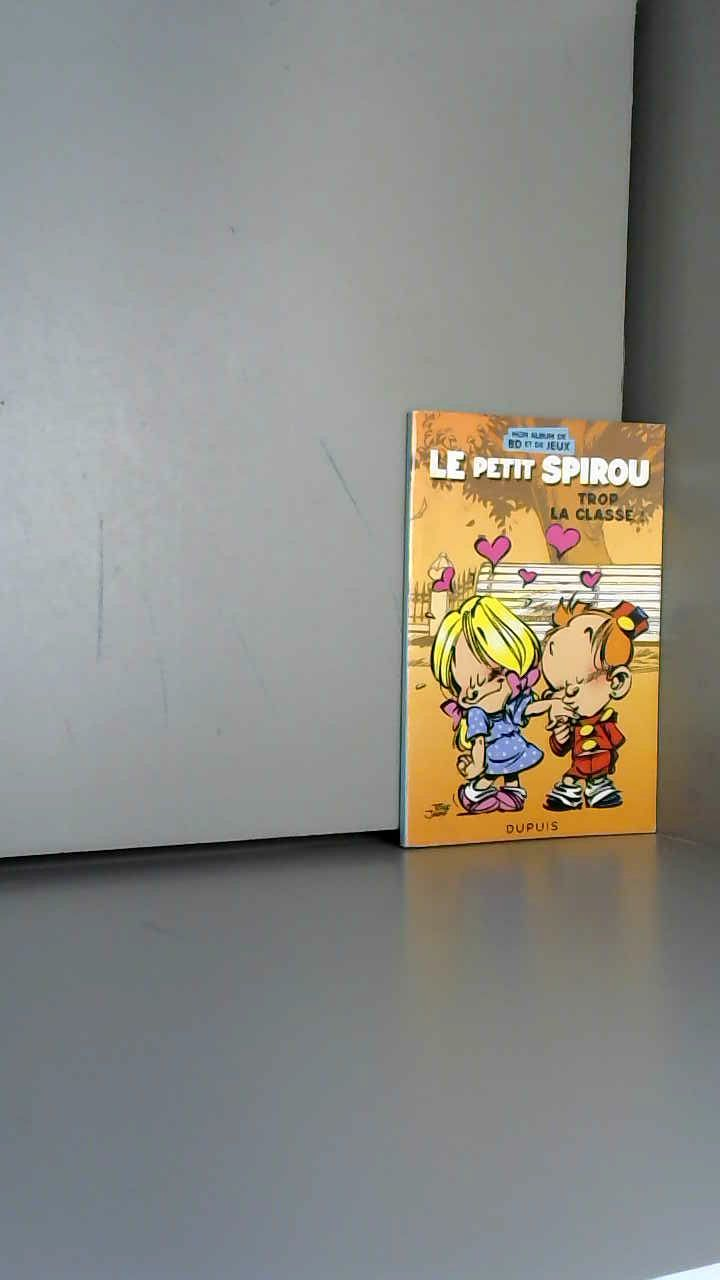book: (380, 380, 720, 921)
